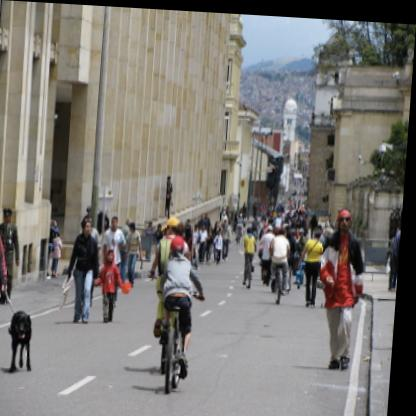With Helmet: (171, 230, 191, 255)
